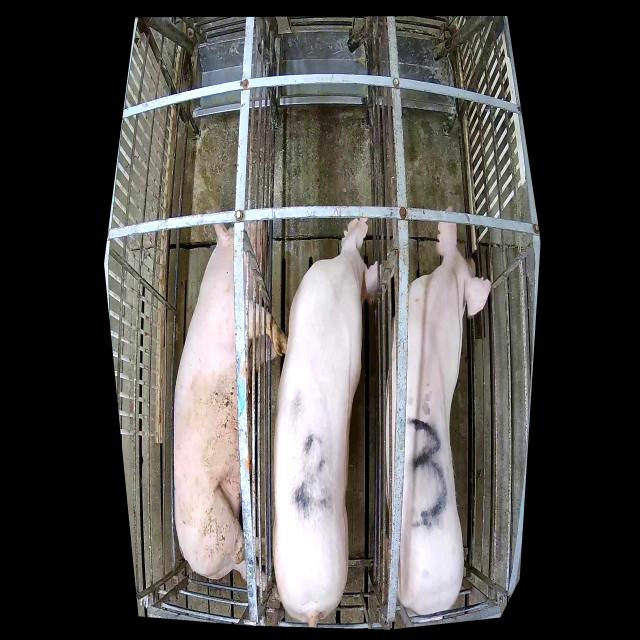pig: (272, 218, 382, 626), (174, 206, 288, 592), (381, 222, 492, 616)
